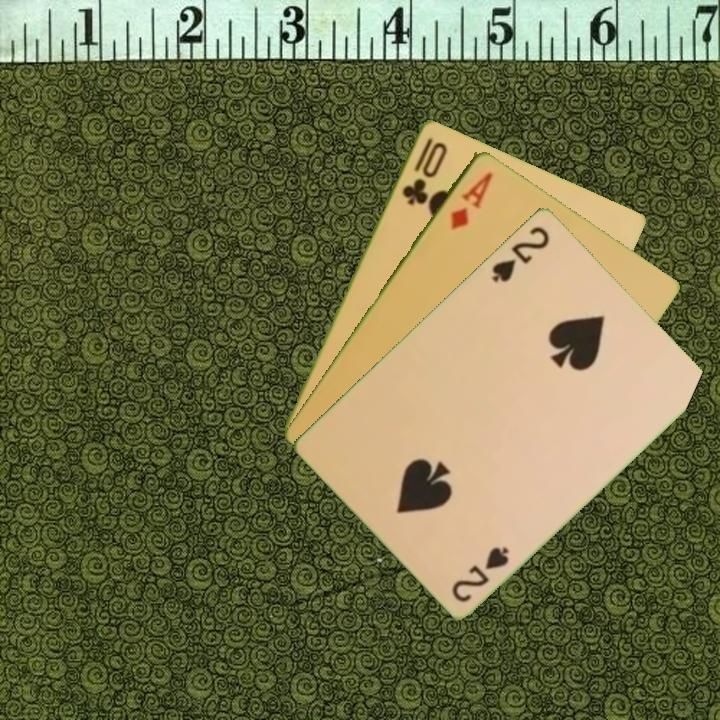10c: (398, 133, 450, 208)
2s: (487, 222, 553, 285), (448, 542, 512, 605)
Ad: (447, 168, 496, 232)
